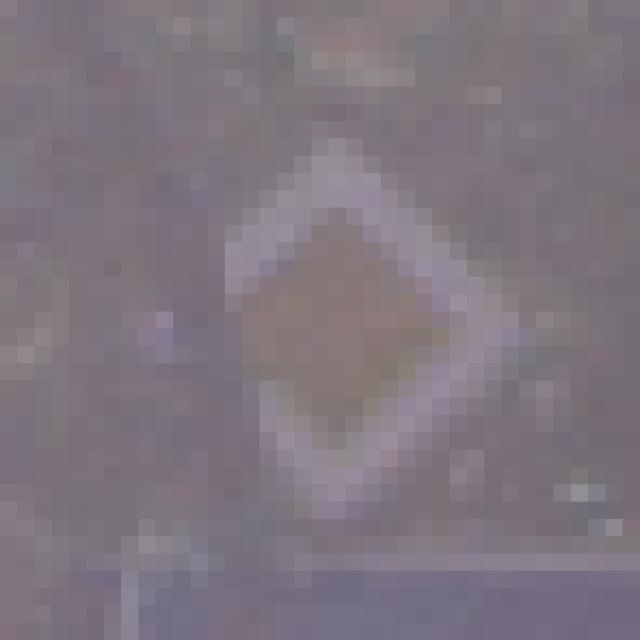Main Road: (88, 105, 555, 554)
